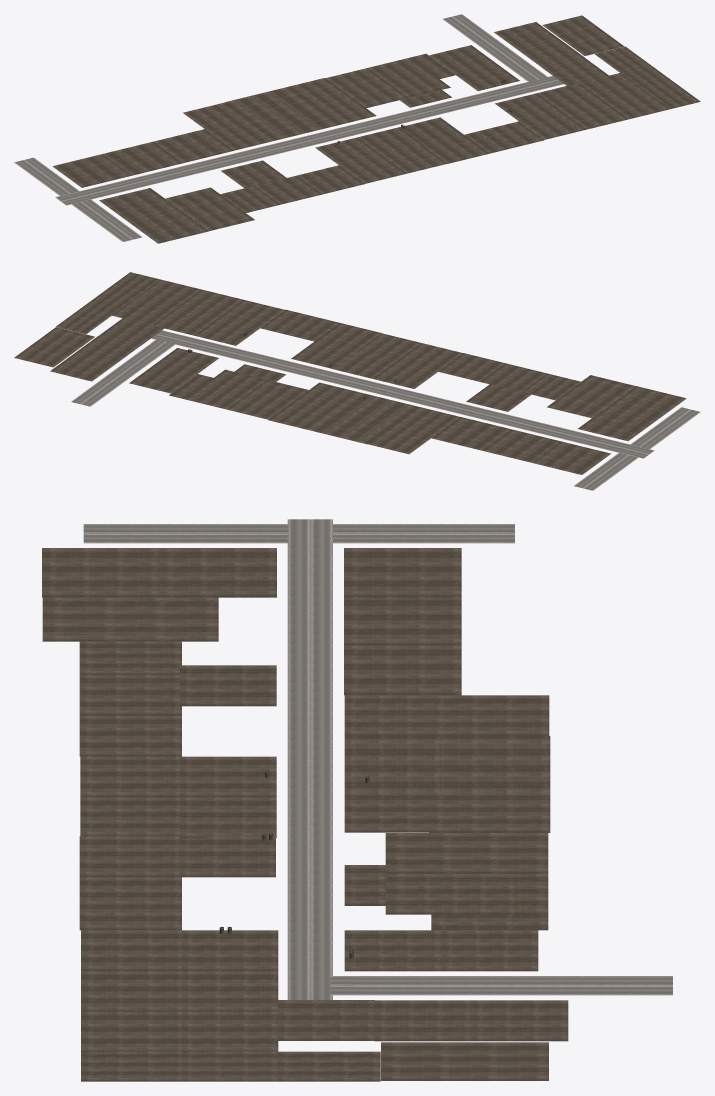
File: roads.fbx
3 renders of one model, top to bottom at view 1: azimuth 30°, elevation 25°; view 2: azimuth 150°, elevation 25°; view 3: azimuth 270°, elevation 25°, orthographic. The views are drawn at different scales.
Visible parts, largest first — view 1: Plane.031, Plane.029, Plane.238, Plane.027, Plane.010, Plane.026, Plane.025, Plane.032, Plane.006, Plane.036, Plane.034, Plane.028 (+32 smaller); view 2: Plane.031, Plane.029, Plane.238, Plane.027, Plane.010, Plane.026, Plane.032, Plane.006, Plane.025, Plane.036, Plane.028, Plane.035 (+32 smaller); view 3: Plane.031, Plane.029, Plane.238, Plane.027, Plane.026, Plane.006, Plane.010, Plane.032, Plane.025, Plane.036, Plane.035, Plane.028 (+32 smaller).
Part boxes in pixels (x1,y1,x2,y2): Plane.031: (165, 187, 254, 230); Plane.029: (325, 68, 408, 108); Plane.238: (542, 15, 623, 55); Plane.027: (225, 88, 309, 122); Plane.010: (99, 188, 179, 221); Plane.026: (153, 129, 233, 163); Plane.025: (102, 141, 182, 175); Plane.032: (129, 209, 208, 243); Plane.006: (52, 154, 131, 187); Plane.036: (252, 108, 333, 139); Plane.034: (368, 57, 450, 97); Plane.028: (284, 78, 354, 110); Plane.031: (547, 375, 635, 418); Plane.029: (227, 380, 308, 419); Plane.238: (14, 327, 94, 367); Plane.027: (309, 410, 393, 444); Plane.010: (578, 407, 657, 441); Plane.026: (431, 417, 510, 450); Plane.032: (607, 386, 686, 419); Plane.006: (532, 441, 610, 474); Plane.025: (482, 429, 560, 462); Plane.036: (336, 393, 417, 424); Plane.028: (268, 398, 338, 429); Plane.035: (367, 424, 438, 454); Plane.031: (42, 597, 218, 641); Plane.029: (385, 833, 548, 873); Plane.238: (381, 1042, 548, 1080); Plane.027: (441, 736, 550, 793); Plane.026: (344, 645, 461, 695); Plane.006: (344, 548, 461, 597); Plane.010: (159, 548, 276, 597); Plane.032: (42, 548, 159, 597); Plane.025: (344, 596, 461, 645); Plane.036: (344, 736, 441, 793); Plane.035: (430, 695, 549, 736); Plane.028: (429, 792, 550, 832).
Bounding box in the file's own units: 23390 × 108 × 11088.
